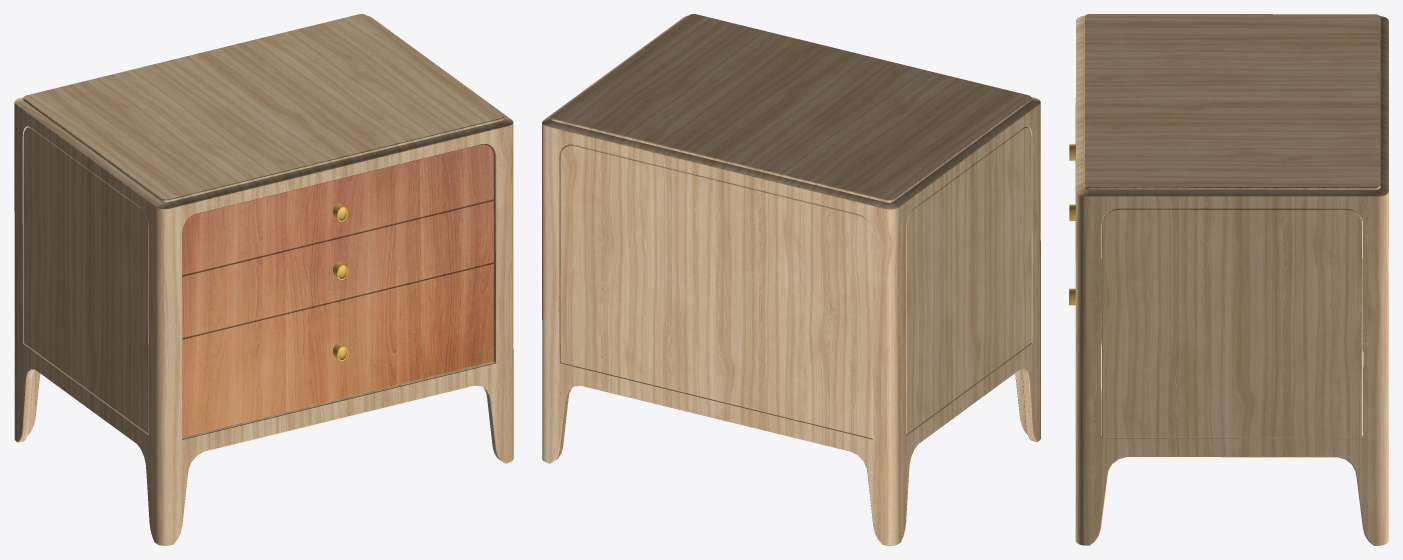
File: Nightstand.obj
The picture shows the model from 3 angles, left to right: view 1: azimuth 30°, elevation 25°; view 2: azimuth 150°, elevation 25°; view 3: azimuth 270°, elevation 25°; orthographic projection. The views are drawn at different scales.
Parts seen in each view (by area): view 1: Nightstand, Drawer; view 2: Nightstand; view 3: Nightstand.
Boxes of the visible parts, bbox=[...] form: Nightstand: bbox=[14, 14, 513, 545]; Drawer: bbox=[182, 143, 493, 437]; Nightstand: bbox=[542, 14, 1040, 545]; Nightstand: bbox=[1075, 14, 1388, 545].
Bounding box in the file's own units: 20.98 × 19.3 × 15.73.
